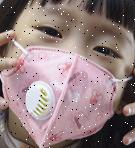with_mask: (1, 2, 135, 148)
